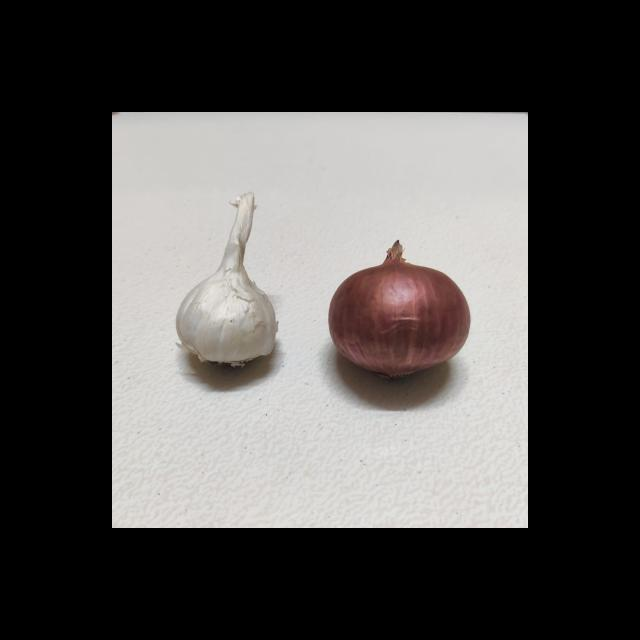garlic: (168, 183, 285, 381)
onion: (320, 238, 481, 392)
